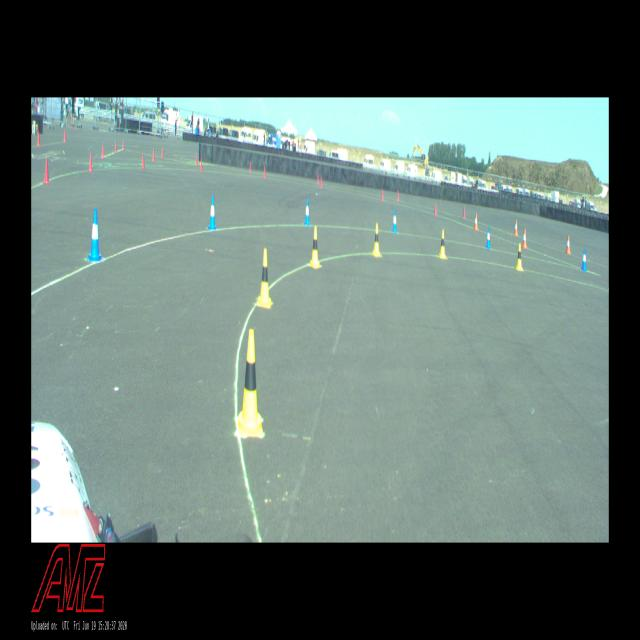blue_cone: (86, 208, 104, 262), (208, 196, 216, 230), (304, 199, 310, 225), (582, 248, 587, 272), (392, 209, 397, 233), (486, 227, 491, 249)
orange_cone: (522, 229, 527, 248), (566, 236, 571, 254), (514, 220, 518, 236), (474, 214, 478, 230)
unknown_cone: (42, 158, 51, 184), (101, 142, 105, 158), (89, 152, 92, 172), (142, 153, 146, 168), (36, 132, 40, 146), (199, 158, 203, 172), (152, 148, 156, 161), (114, 141, 118, 153), (434, 202, 437, 215), (263, 166, 266, 179), (122, 138, 125, 150), (161, 146, 164, 158), (195, 154, 198, 166), (249, 160, 252, 172), (381, 189, 384, 201), (320, 175, 322, 188), (463, 206, 465, 218), (64, 130, 66, 142), (317, 172, 319, 184), (397, 189, 399, 201)
yellow_cone: (238, 330, 263, 437), (258, 249, 272, 308), (310, 226, 320, 268), (372, 223, 381, 257), (439, 230, 446, 258), (516, 243, 523, 270)
